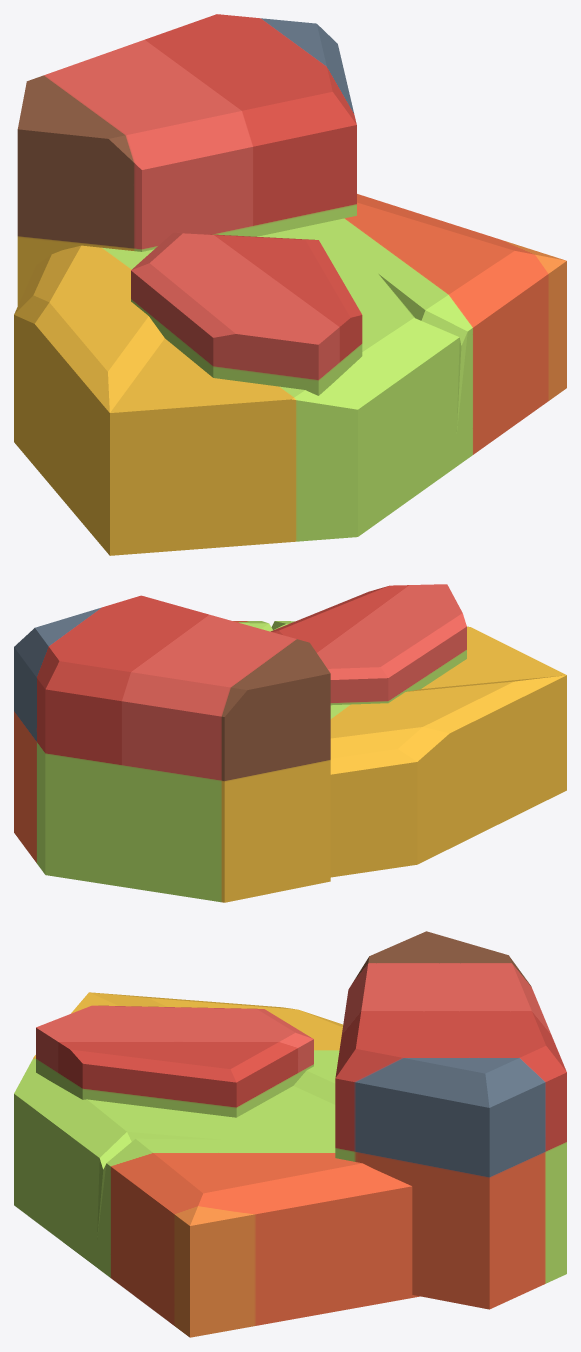
Rendered from rock_3.fbx.
3 renders of one model, top to bottom at view 1: azimuth 30°, elevation 25°; view 2: azimuth 150°, elevation 25°; view 3: azimuth 270°, elevation 25°, orthographic. The views are drawn at different scales.
Visible parts, largest first — view 1: rock_3; view 2: rock_3; view 3: rock_3.
Part boxes in pixels (bbox=[...]): rock_3: bbox=[14, 14, 566, 555]; rock_3: bbox=[14, 584, 566, 902]; rock_3: bbox=[14, 931, 566, 1337].
Size of the model in its own units: 147 by 71.42 by 156.
